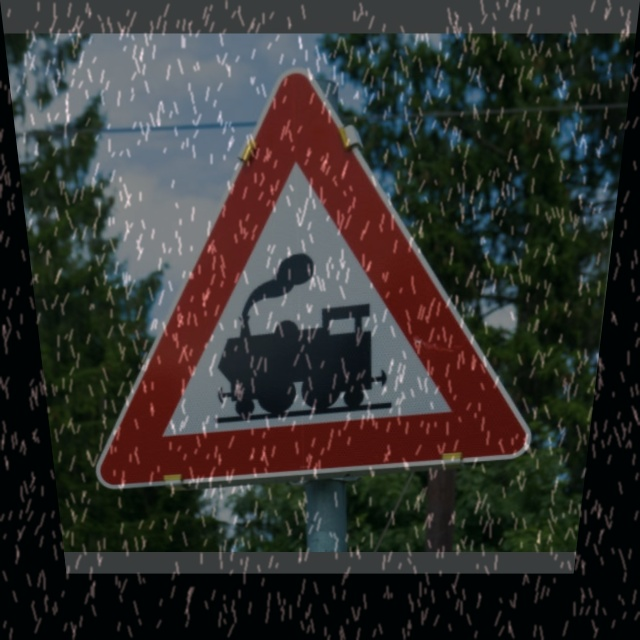Unguarded_Level_Crossing: (75, 72, 552, 478)
